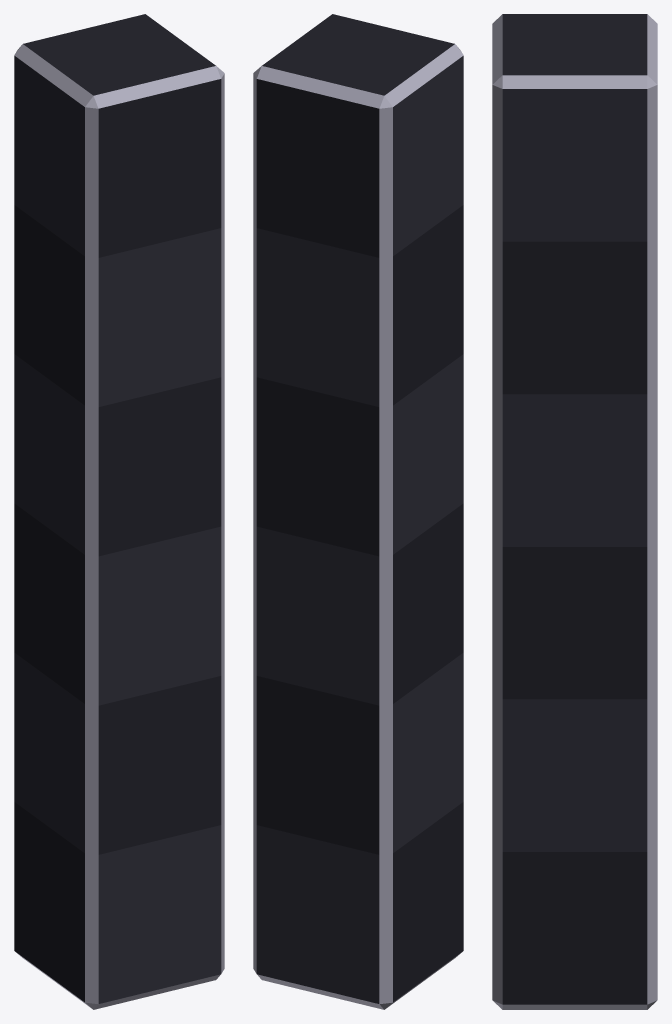
Rendered from PMP-M-Ground-Main-0.32x0.32x2-V1.fbx.
3 renders of one model, left to right at view 1: azimuth 30°, elevation 25°; view 2: azimuth 150°, elevation 25°; view 3: azimuth 270°, elevation 25°, orthographic. The views are drawn at different scales.
Visible parts, largest first — view 1: MONO-Terrain-A-0.32x0.32x2; view 2: MONO-Terrain-A-0.32x0.32x2; view 3: MONO-Terrain-A-0.32x0.32x2.
Boxes of the visible parts, left/top/right/bottom form: MONO-Terrain-A-0.32x0.32x2: left=14, top=14, right=224, bottom=1009; MONO-Terrain-A-0.32x0.32x2: left=253, top=14, right=463, bottom=1009; MONO-Terrain-A-0.32x0.32x2: left=492, top=14, right=657, bottom=1009.
Bounding box in the file's own units: 32 × 200 × 32.
